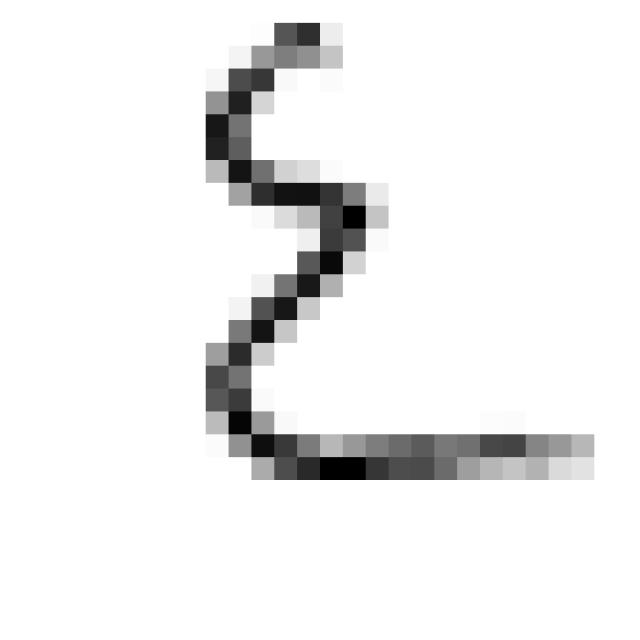4 -four-: (181, 0, 606, 503)
